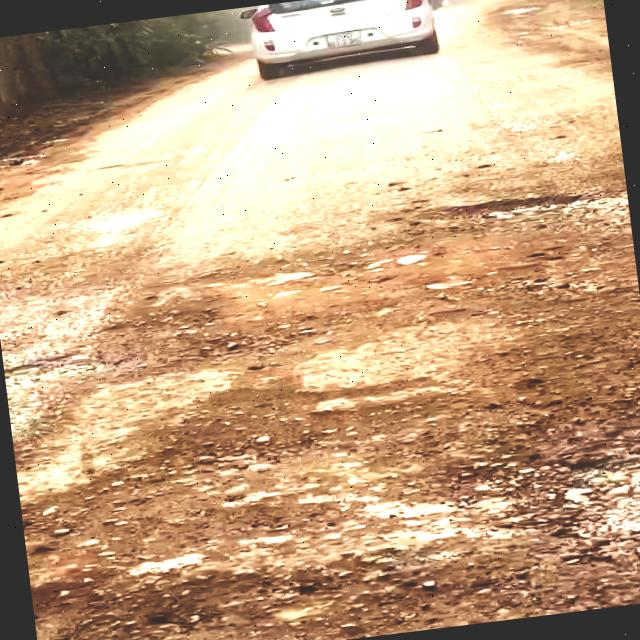pothole: (8, 359, 454, 640), (469, 380, 640, 621), (407, 180, 629, 240)
